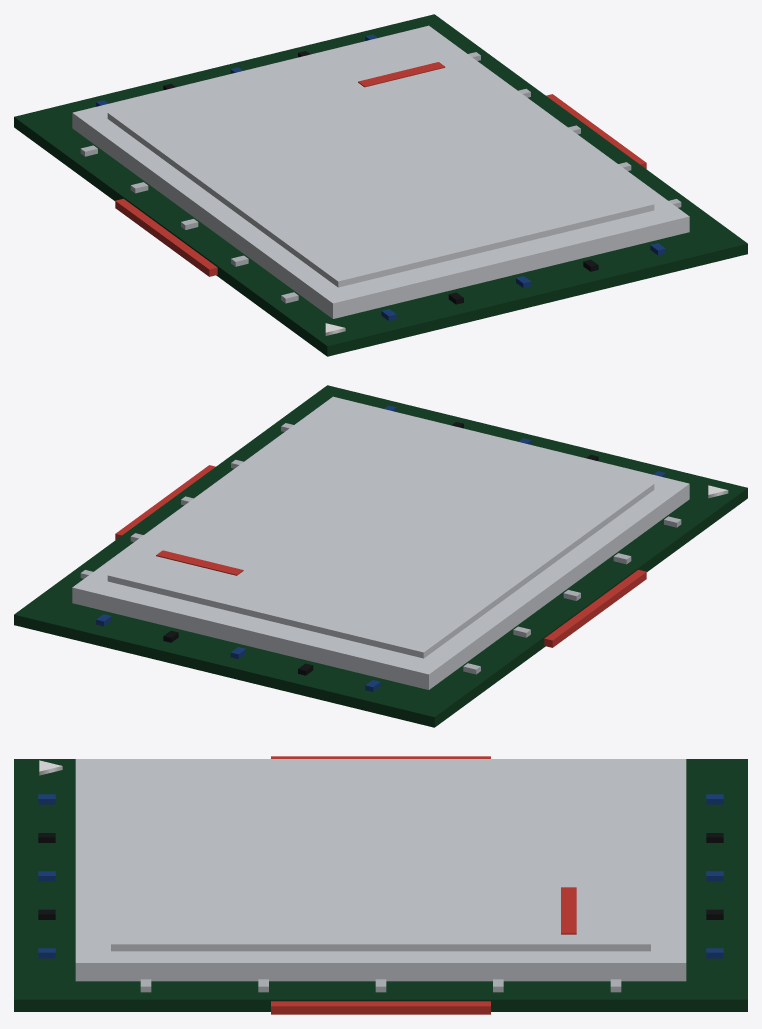
The model's file is hw_cpu_tr_7970x.glb.
The picture shows the model from 3 angles, top to bottom: view 1: azimuth 30°, elevation 25°; view 2: azimuth 150°, elevation 25°; view 3: azimuth 270°, elevation 25°; orthographic projection. The views are drawn at different scales.
Parts seen in each view (by area): view 1: Body; view 2: Body; view 3: Body.
Boxes of the visible parts, x1,y1,x2,y2 form: Body: [14, 14, 747, 356]; Body: [14, 385, 747, 727]; Body: [14, 756, 747, 1014].
Size of the model in its own units: 0.0608 by 0.00467 by 0.0755.
